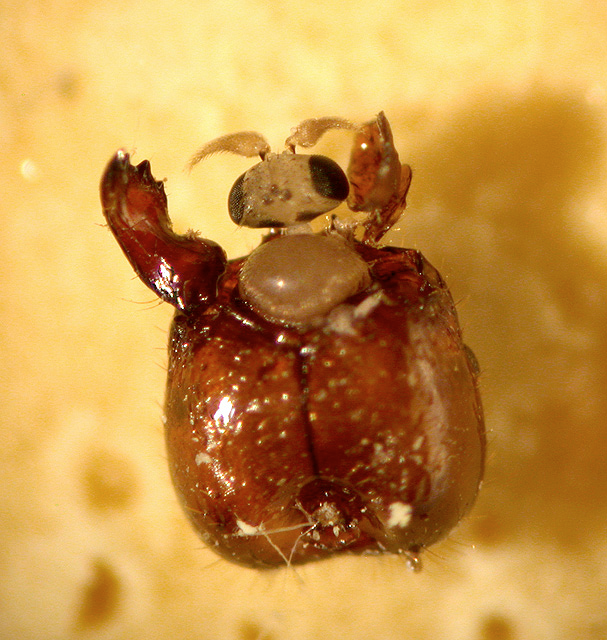phorid fly: (79, 67, 528, 621)
